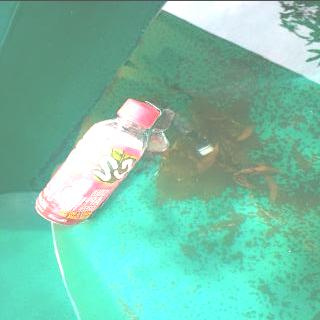bottle: (32, 98, 162, 225)
